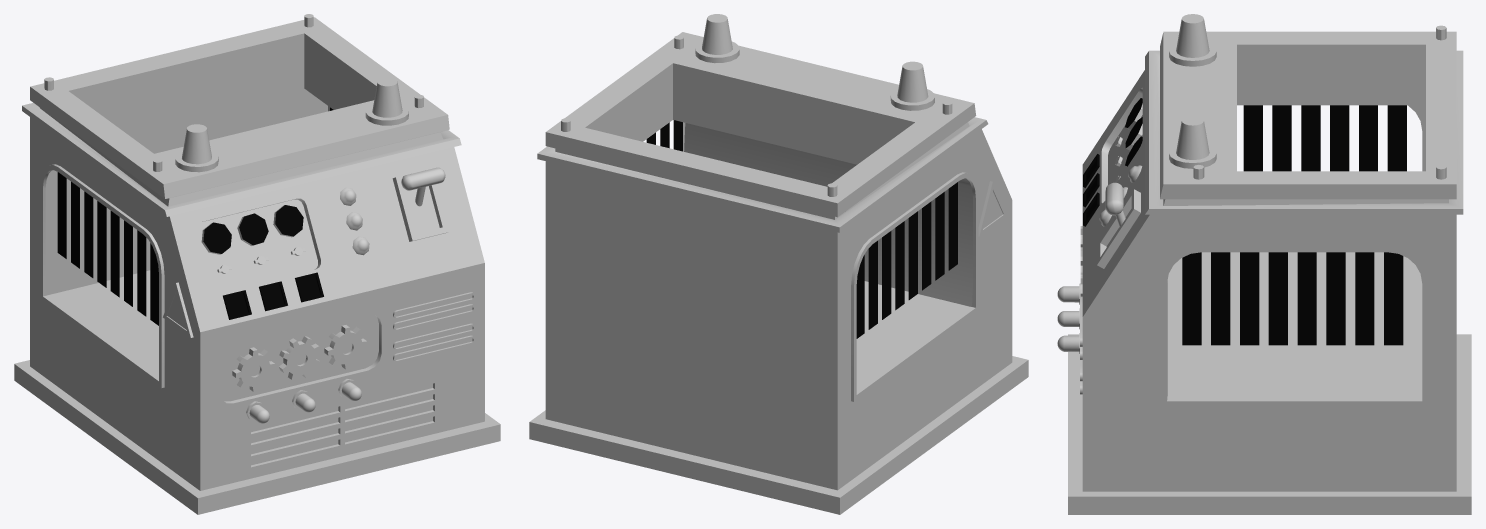
File: Machn_v2_4.fbx
3 views of the same model, side by side, from view 1: azimuth 30°, elevation 25°; view 2: azimuth 150°, elevation 25°; view 3: azimuth 270°, elevation 25° (orthographic). The views are drawn at different scales.
Visible parts, largest first — view 1: Machn_v2_4, Plane_1.004, AlertOrange.013, AlertOrange.014, Gear2, Gear4, Gear3, Pc_2; view 2: Machn_v2_4, Plane_1.004, AlertOrange.014, AlertOrange.013, Plane_2.004; view 3: Machn_v2_4, Plane_2.004, Plane_1.004, AlertOrange.013, AlertOrange.014, Pc_2.
Boxes of the visible parts, x1,y1,x2,y2 form: Machn_v2_4: (14, 14, 500, 514); Plane_1.004: (57, 172, 158, 325); AlertOrange.013: (175, 124, 218, 172); AlertOrange.014: (365, 77, 408, 125); Gear2: (279, 336, 320, 380); Gear4: (324, 325, 367, 369); Gear3: (232, 347, 275, 391); Pc_2: (401, 167, 445, 206); Machn_v2_4: (529, 32, 1028, 514); Plane_1.004: (856, 182, 957, 338); AlertOrange.014: (695, 14, 739, 63); AlertOrange.013: (890, 61, 934, 110); Plane_2.004: (646, 120, 682, 151); Machn_v2_4: (1057, 25, 1471, 514); Plane_2.004: (1182, 252, 1403, 345); Plane_1.004: (1243, 105, 1406, 171); AlertOrange.013: (1169, 14, 1216, 66); AlertOrange.014: (1169, 116, 1216, 168); Pc_2: (1105, 182, 1125, 227).
Size of the model in its own units: 263 by 275 by 283.
